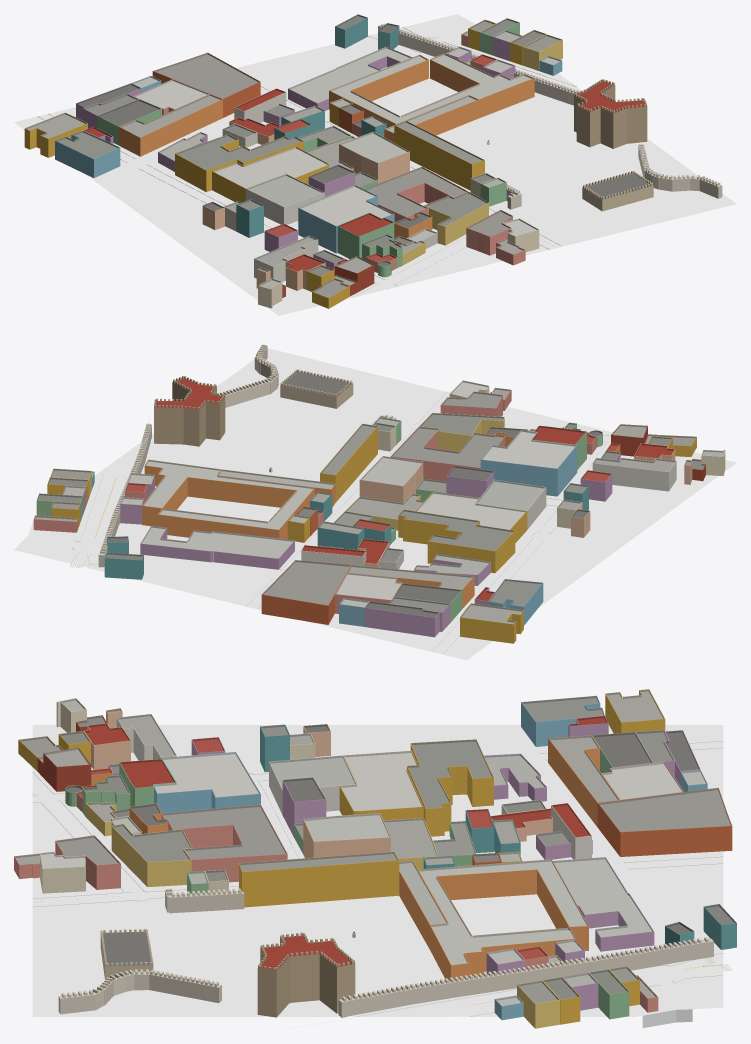
The picture shows the model from 3 angles, top to bottom: view 1: azimuth 30°, elevation 25°; view 2: azimuth 150°, elevation 25°; view 3: azimuth 270°, elevation 25°; orthographic projection. The views are drawn at different scales.
Parts seen in each view (by area): view 1: roofs, walls, plaza, stone, pavers, concrete, sidewalk, asphalt; view 2: roofs, walls, plaza, asphalt, stone, pavers, sidewalk, concrete; view 3: roofs, walls, plaza, stone, pavers, asphalt, sidewalk, concrete, coast.
Boxes of the visible parts, <box> form: roofs: <box>25,14,653,298</box>; walls: <box>24,18,653,308</box>; plaza: <box>14,14,736,315</box>; stone: <box>378,23,722,209</box>; pavers: <box>40,86,466,297</box>; concrete: <box>125,38,659,306</box>; sidewalk: <box>37,26,576,298</box>; asphalt: <box>260,20,583,249</box>; roofs: <box>34,372,724,624</box>; walls: <box>33,382,725,643</box>; plaza: <box>14,348,736,660</box>; asphalt: <box>33,392,449,608</box>; stone: <box>98,344,396,567</box>; pavers: <box>202,430,624,653</box>; sidewalk: <box>65,391,612,654</box>; concrete: <box>144,370,698,577</box>; roofs: <box>14,689,736,1006</box>; walls: <box>14,690,736,1028</box>; plaza: <box>32,725,723,1016</box>; stone: <box>58,888,713,1017</box>; pavers: <box>32,725,723,909</box>; asphalt: <box>32,857,723,1016</box>; sidewalk: <box>32,739,723,1016</box>; concrete: <box>55,725,704,1016</box>; coast: <box>642,1009,692,1027</box>.
Size of what is drawn, in the model's own units: 271 by 24.5 by 262.
